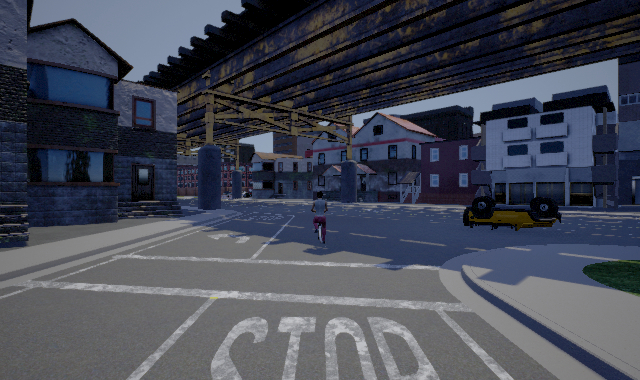bike: (309, 191, 332, 249)
vehicle: (463, 196, 562, 231)
